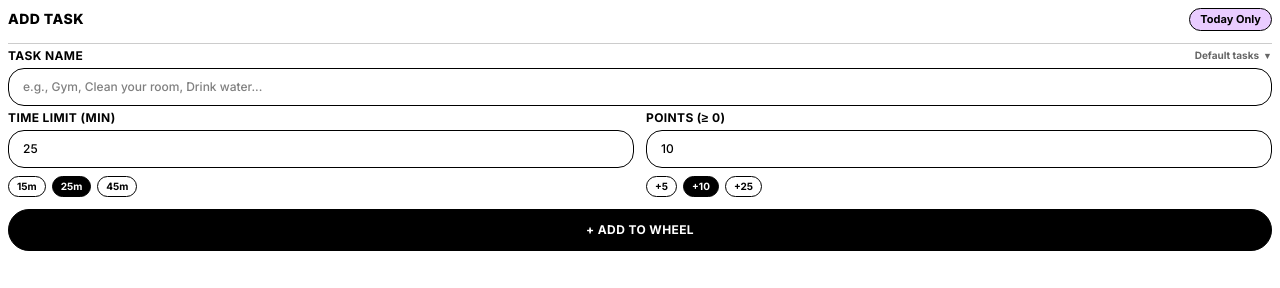
Test: components/TaskForm (spec) › shows inline error when submitting with empty task name
Click the button "+ Add to Wheel". click: (640, 230)
box: [8,208,1272,250]
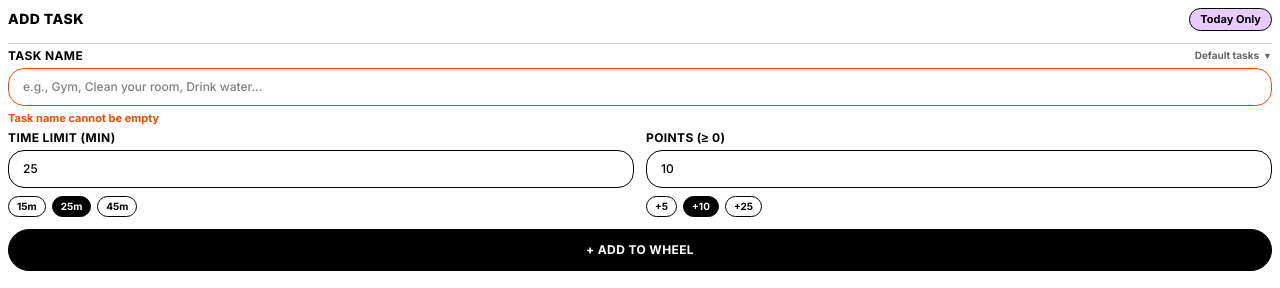
Check: the text "Task name cannot be empty" is shown, box [8,110,159,124]
